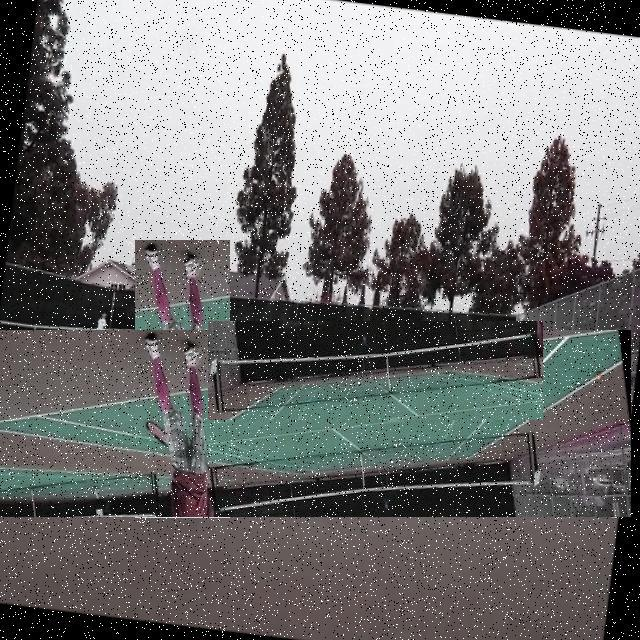court: (0, 330, 631, 517)
net: (208, 322, 543, 422)
player: (135, 240, 230, 518)
